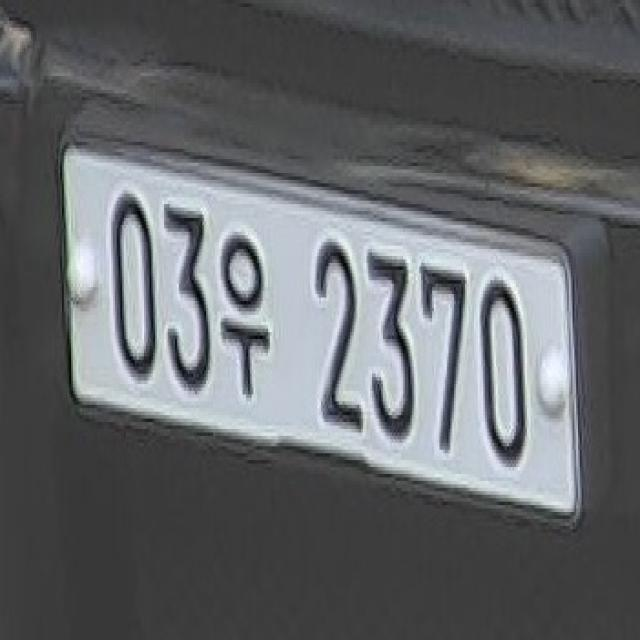plat: (59, 136, 585, 526)
